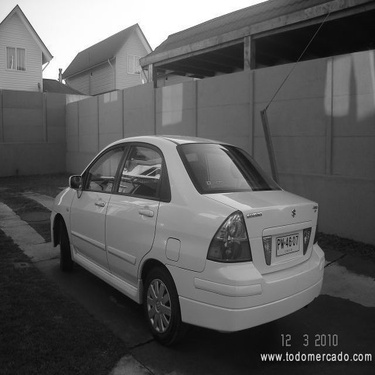car: (45, 131, 334, 325)
